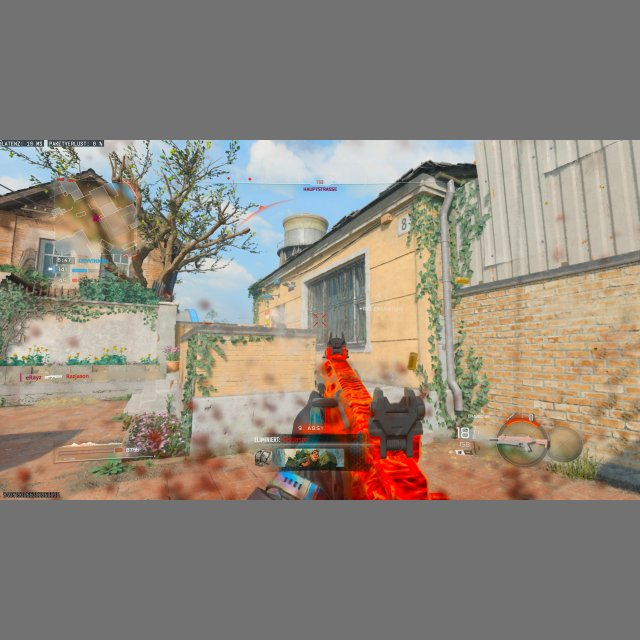head: (325, 337, 350, 370)
player: (280, 337, 432, 499)
